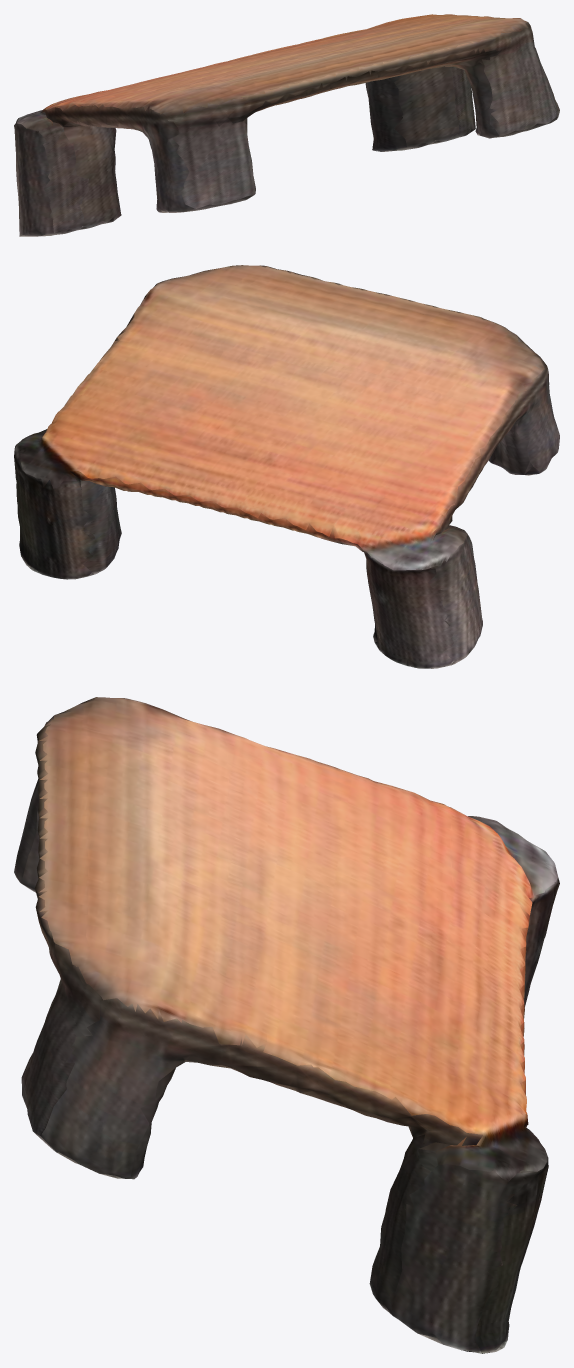
The model's file is 3d-furniture-test_0.glb.
The picture shows the model from 3 angles, top to bottom: view 1: azimuth 30°, elevation 25°; view 2: azimuth 150°, elevation 25°; view 3: azimuth 270°, elevation 25°; orthographic projection. The views are drawn at different scales.
Visible parts, largest first — view 1: world; view 2: world; view 3: world.
Boxes of the visible parts, x1,y1,x2,y2 form: world: (14, 14, 559, 236); world: (14, 265, 559, 668); world: (14, 697, 559, 1353).
Bounding box in the file's own units: 0.8183 × 0.3897 × 0.5239.
1 material, 1 textured.
